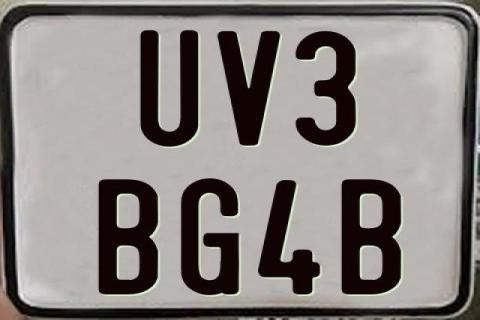0: (258, 178, 325, 294), (292, 29, 356, 143)
B: (98, 178, 162, 298), (339, 177, 400, 296)
G: (179, 177, 237, 295)
U: (137, 29, 197, 149)
V: (217, 29, 285, 144)
